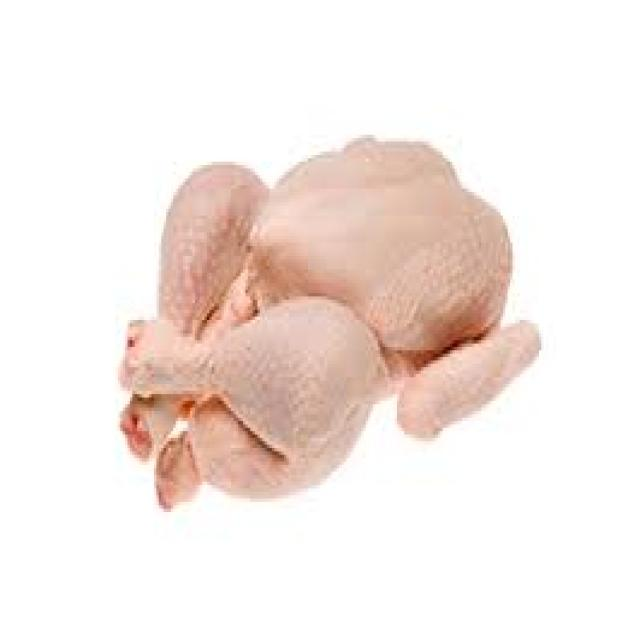chicken: (112, 118, 551, 519)
